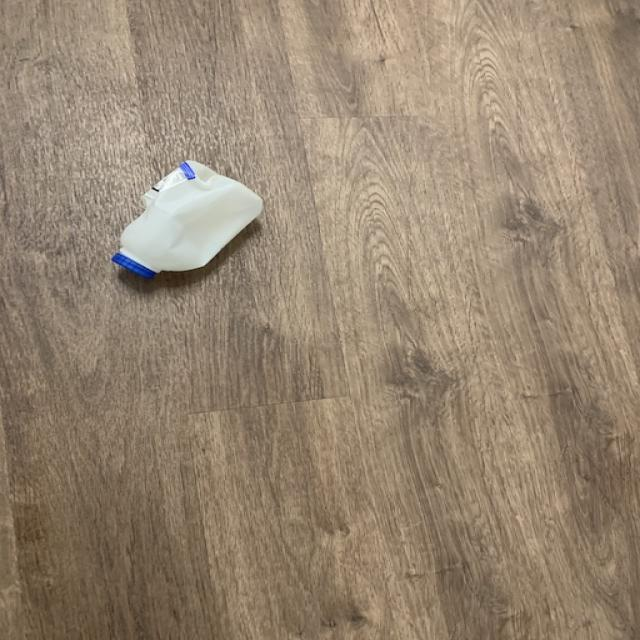litter: (101, 162, 271, 292)
